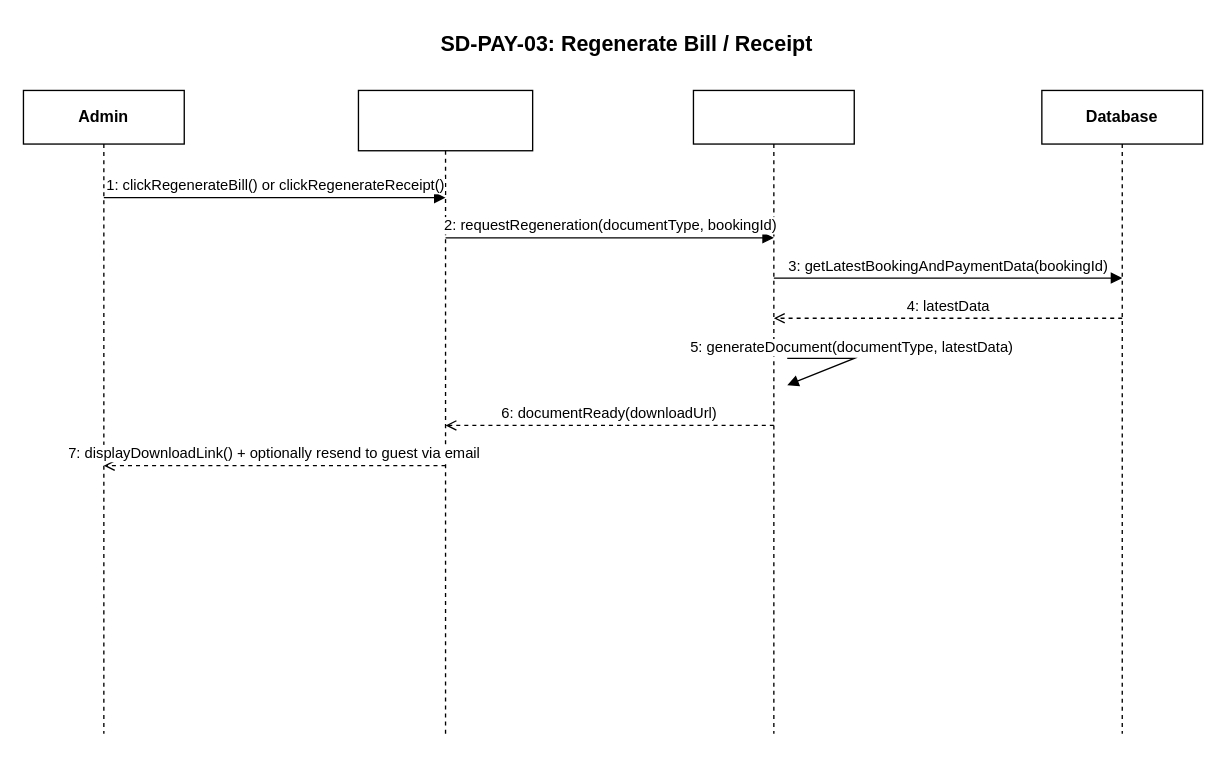
The diagram is 1226 pixels wide and 757 high, and some of its shapes have lost their labels. Here are the shapes that lost their labels. From the top down, the box of each, then its label:
(357, 89, 533, 734): Billing Detail Page
(692, 89, 854, 734): System
